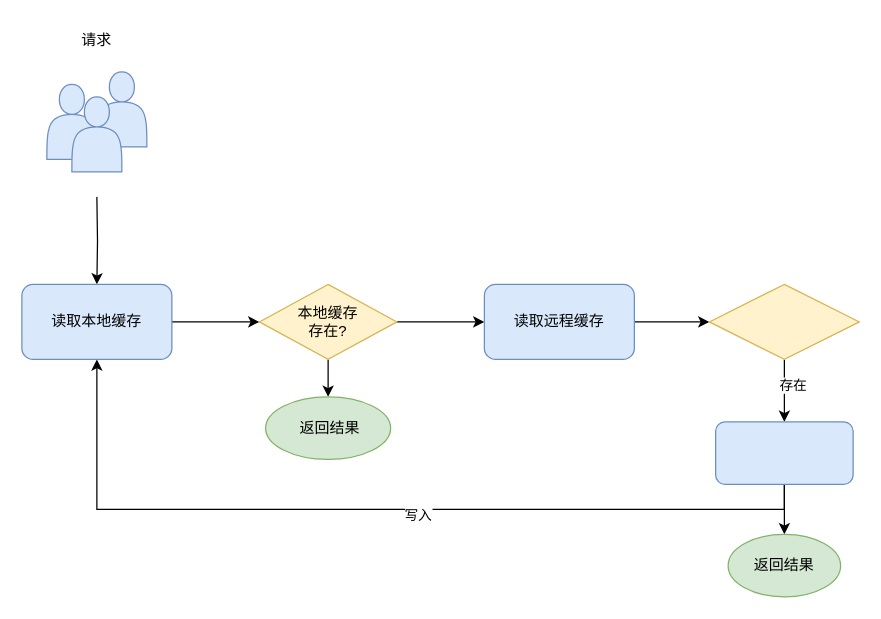
The diagram is 881 pixels wide and 619 high, and some of its shapes have lost their labels. The centre of each missing label's shape, as x and y in pixels:
"写入本地缓存" goes at point 783,452.
"远程缓存 存在?" goes at point 783,321.
